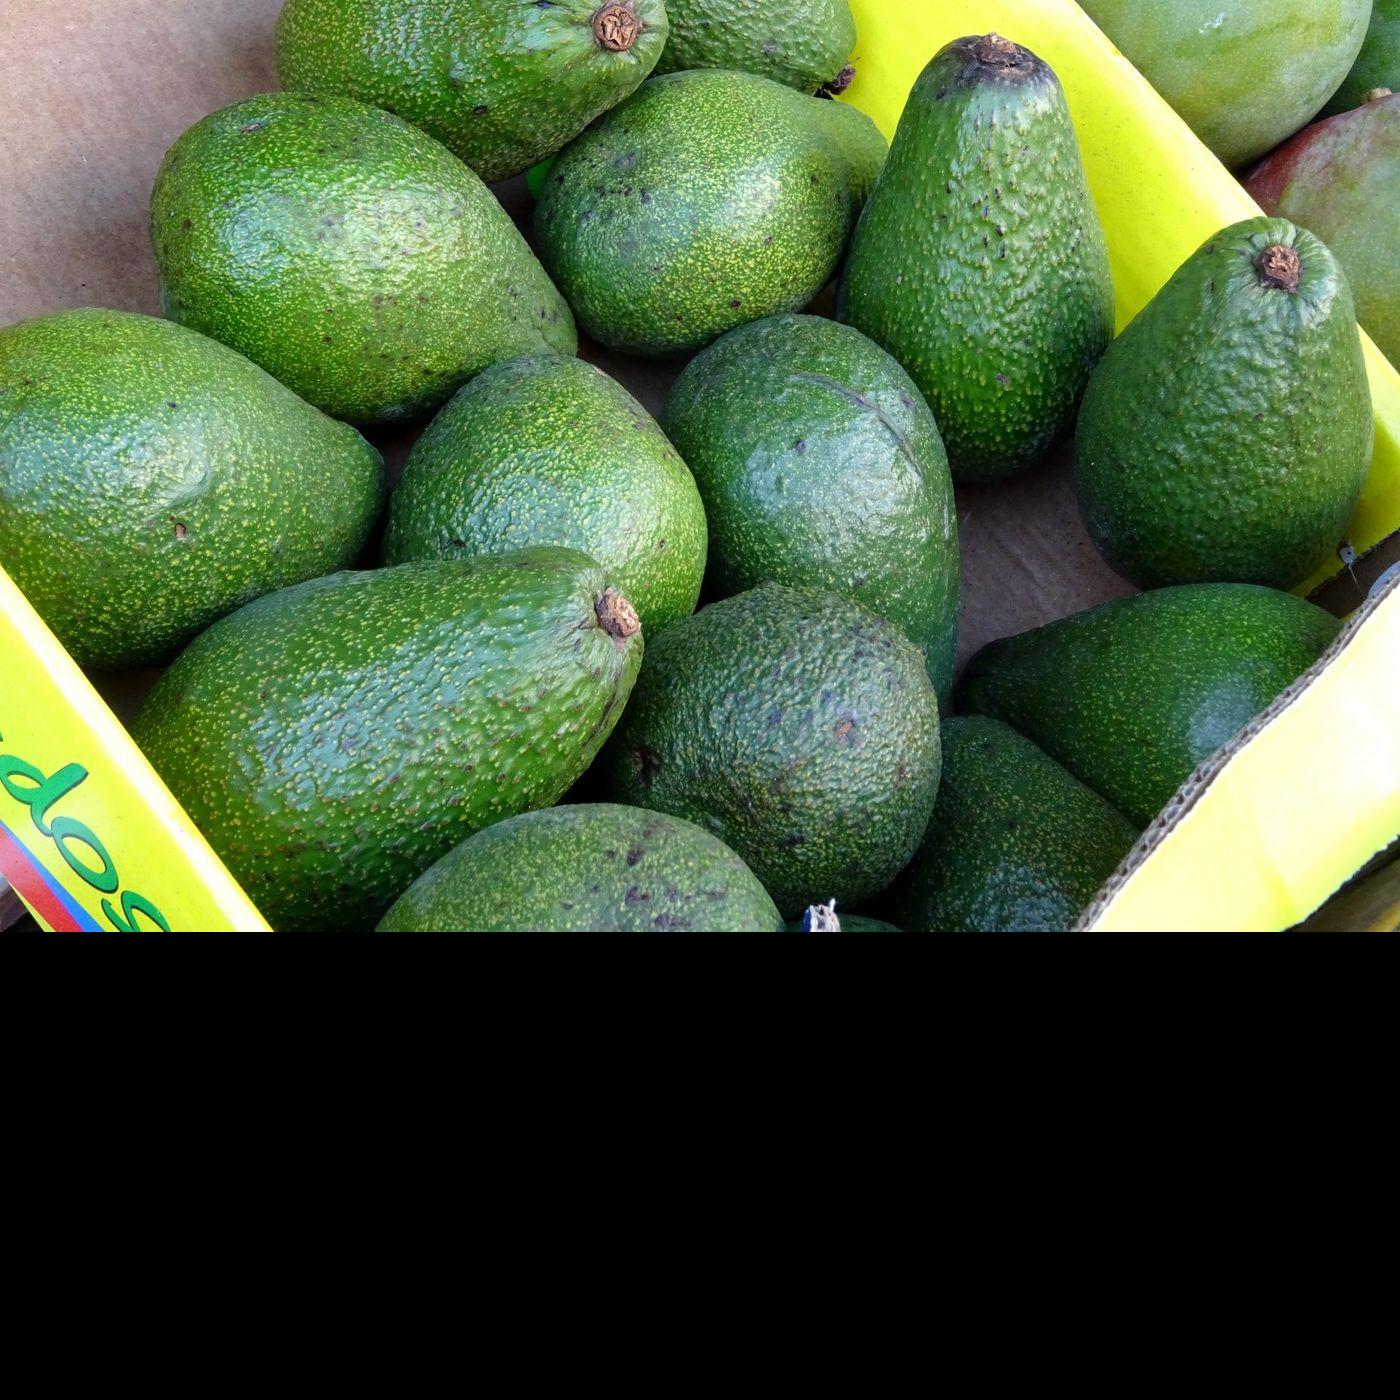unripe: (135, 546, 644, 932), (151, 91, 579, 422), (1, 305, 390, 667), (837, 35, 1115, 488), (660, 313, 962, 722), (601, 579, 944, 917), (1073, 215, 1373, 590), (535, 68, 890, 356), (955, 585, 1344, 831), (388, 356, 706, 644), (273, 1, 671, 183), (371, 803, 790, 932), (912, 715, 1141, 932), (644, 1, 858, 97)
